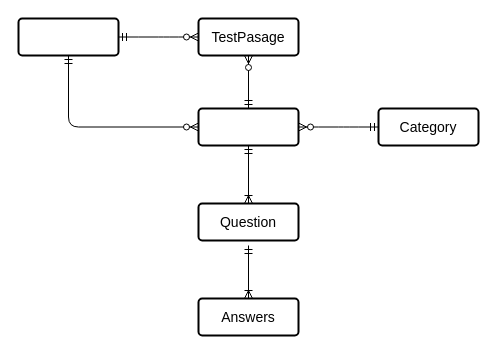
Some shapes in this 496 by 353 pixel diagram are drawn without their labels. The centre of each missing label's shape, as x and y in pixels:
Test: the point at 248,126
User: the point at 68,36
